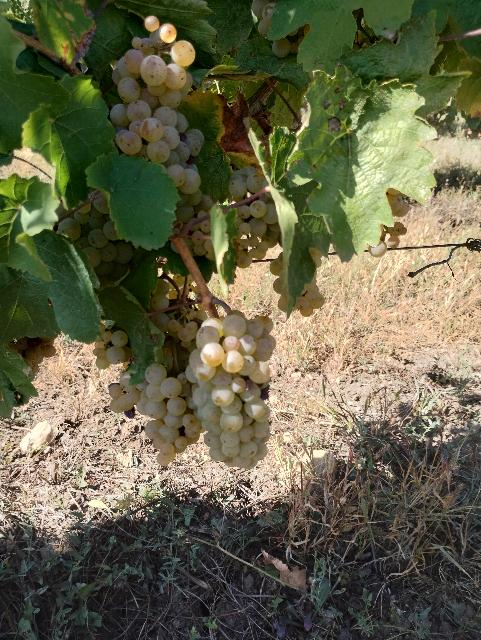grapes: (110, 16, 214, 224), (189, 314, 276, 469), (109, 364, 200, 466)
